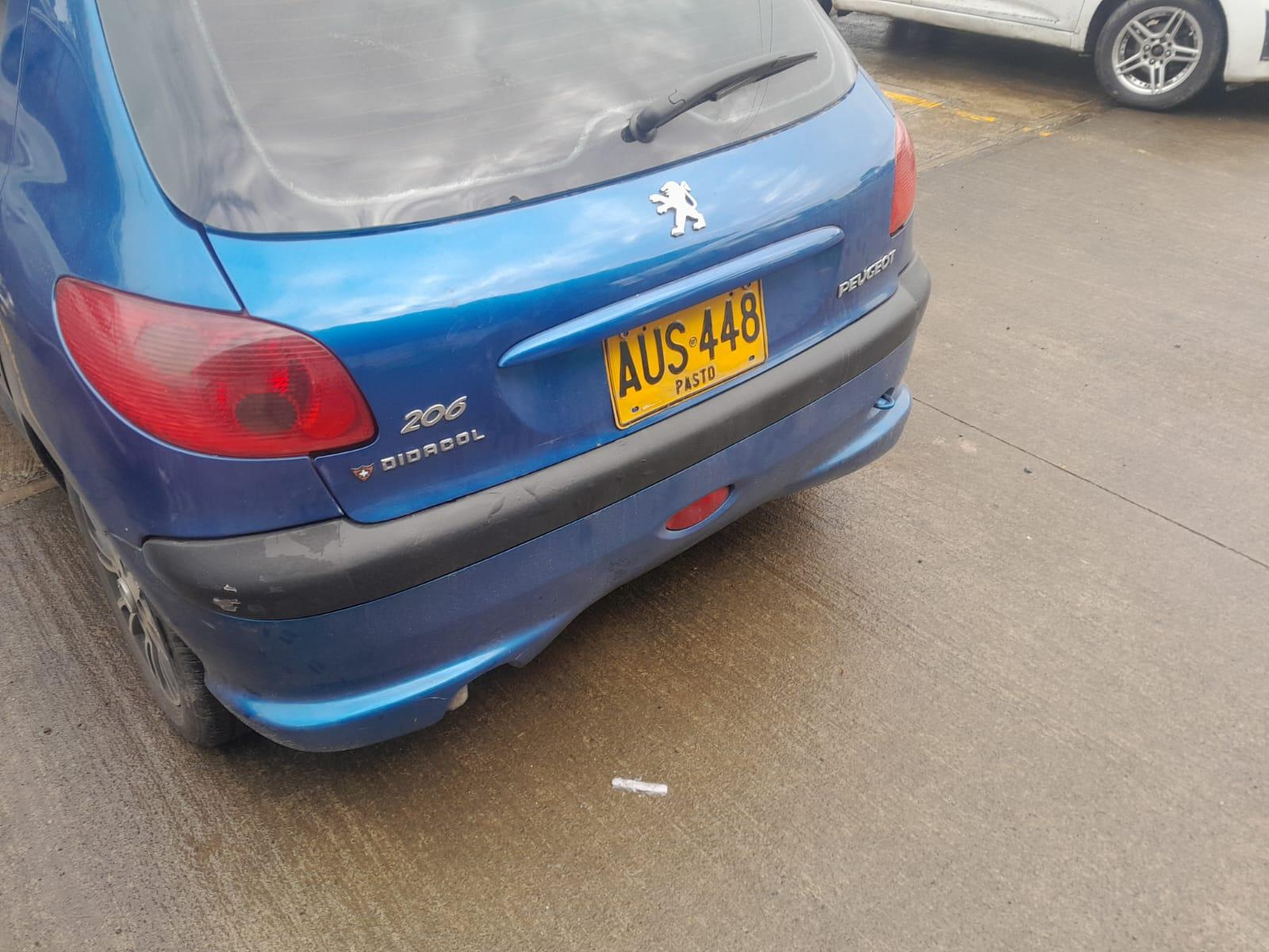placa: (604, 282, 766, 428)
